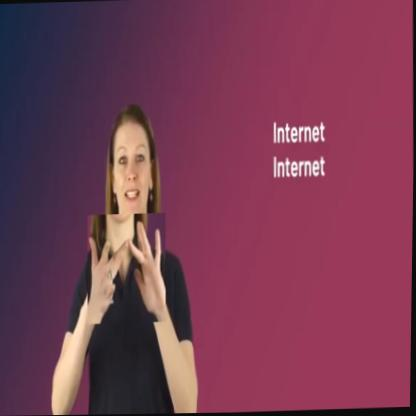Internet: (86, 213, 168, 324)
